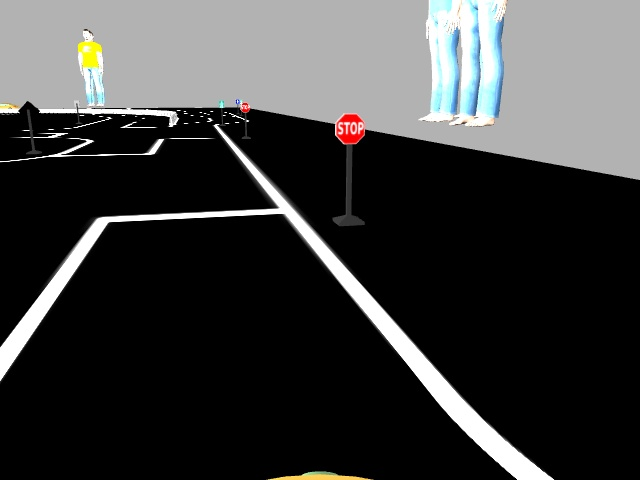Stop: (336, 112, 365, 145), (239, 101, 249, 112)
